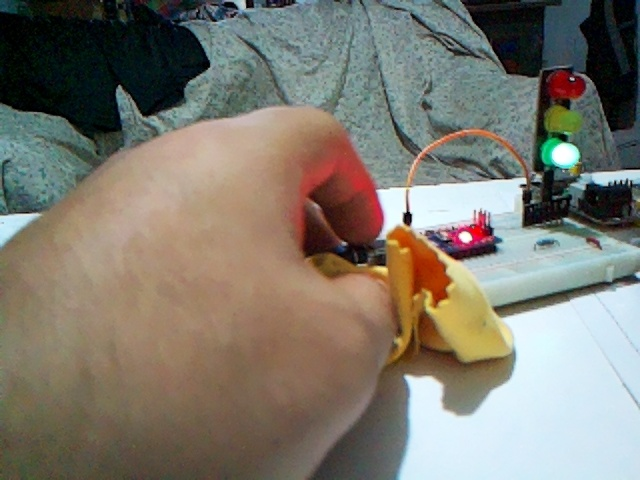traffic_light_green: (537, 65, 587, 177)
